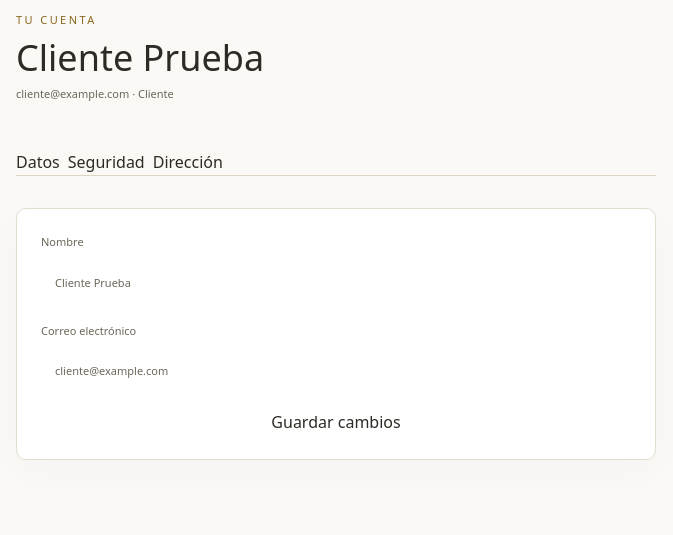
Test case: PerfilView › muestra el error que devuelve el servidor
Click the button "Guardar cambios": click(336, 423) [41, 410, 631, 436]
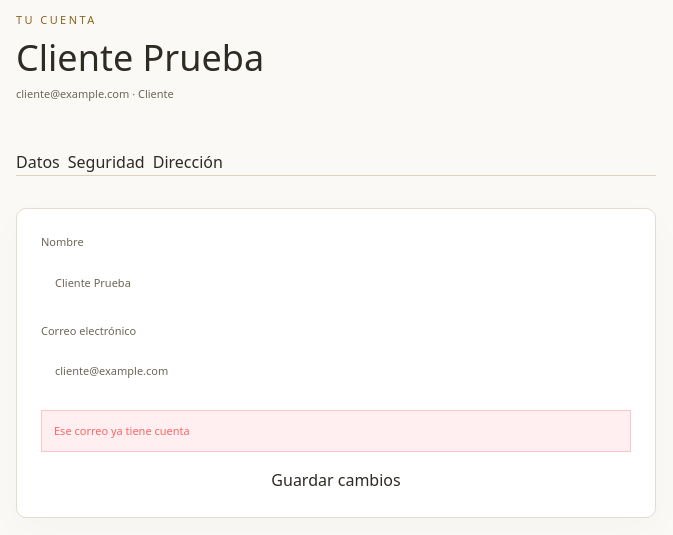
Expected: the message reads "Ese correo ya tiene cuenta", [54, 423, 190, 438]
